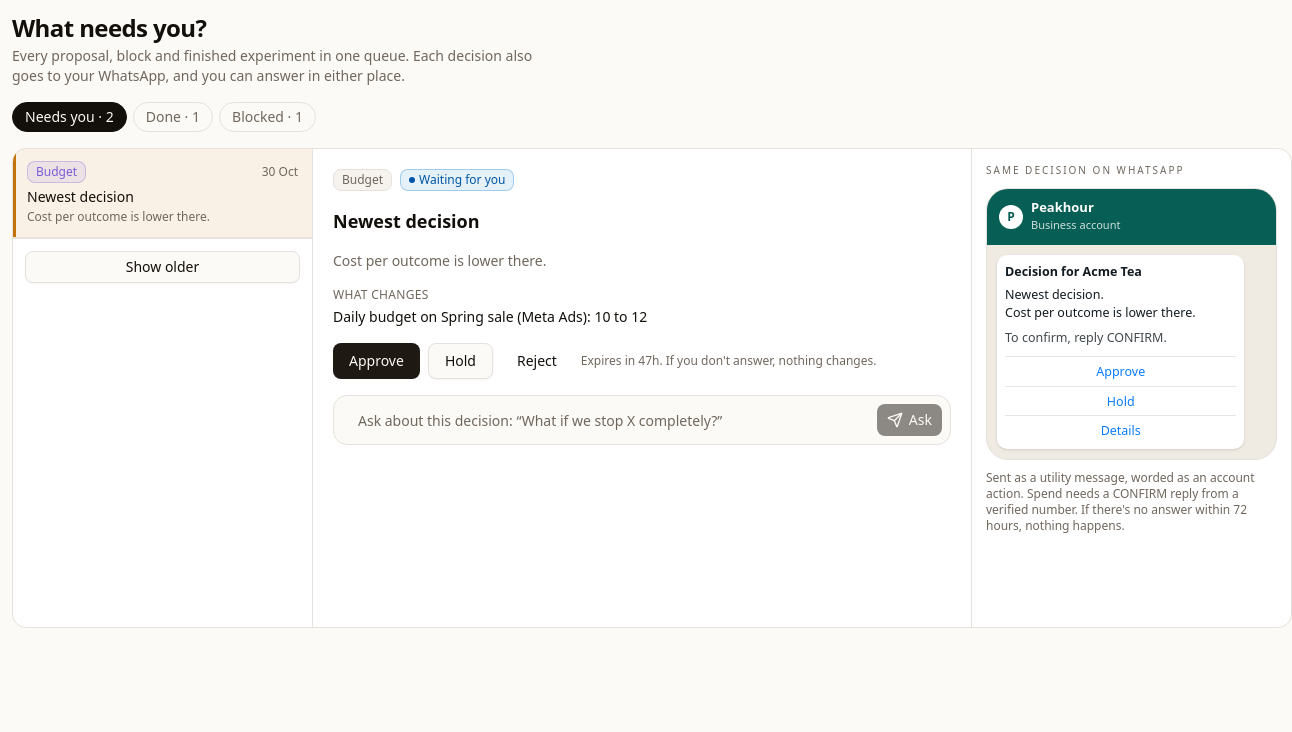
Test case: live data › pages: Show older asks for the cursor and appends
Click the button "Show older".
click(162, 267)  # box [25,251,300,283]
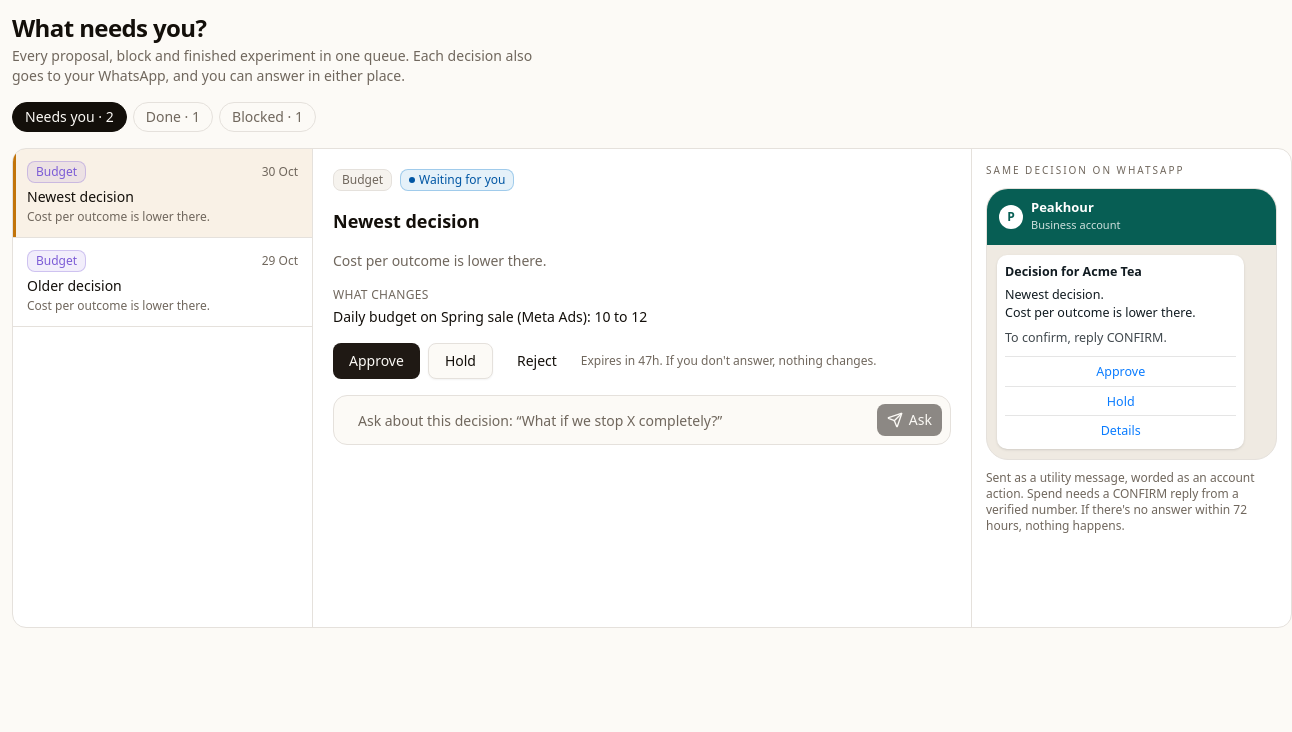
Expected: the text "Newest decision" is shown, [27,187,134,206]
Expected: the text "Older decision" is shown, [27,276,122,295]
